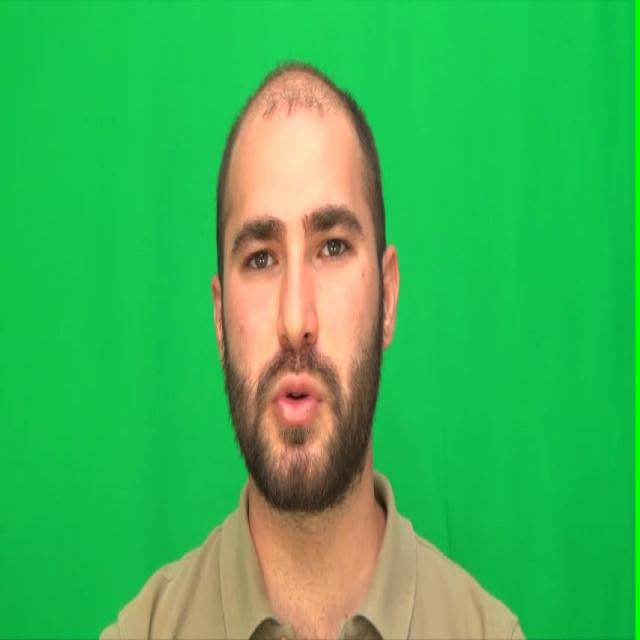Engaged: (221, 99, 380, 477)
